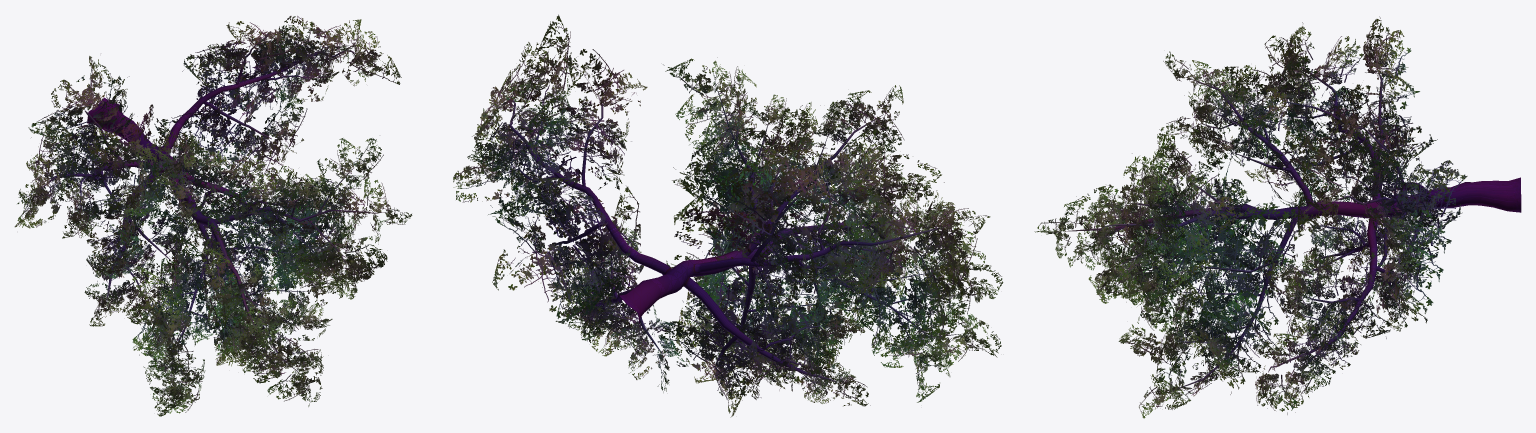
File: oak_big_oak_tree_001_lod0.glb
3 renders of one model, left to right at view 1: azimuth 30°, elevation 25°; view 2: azimuth 150°, elevation 25°; view 3: azimuth 270°, elevation 25°, orthographic. The views are drawn at different scales.
Visible parts, largest first — view 1: Big_oak_tree__001_LOD0; view 2: Big_oak_tree__001_LOD0; view 3: Big_oak_tree__001_LOD0.
Part boxes in pixels (x1,y1,x2,y2): Big_oak_tree__001_LOD0: [14, 16, 412, 416]; Big_oak_tree__001_LOD0: [453, 14, 1003, 417]; Big_oak_tree__001_LOD0: [1034, 16, 1521, 418].
Size of the model in its own units: 20.55 by 15.67 by 19.62.
2 materials, 2 textured.
